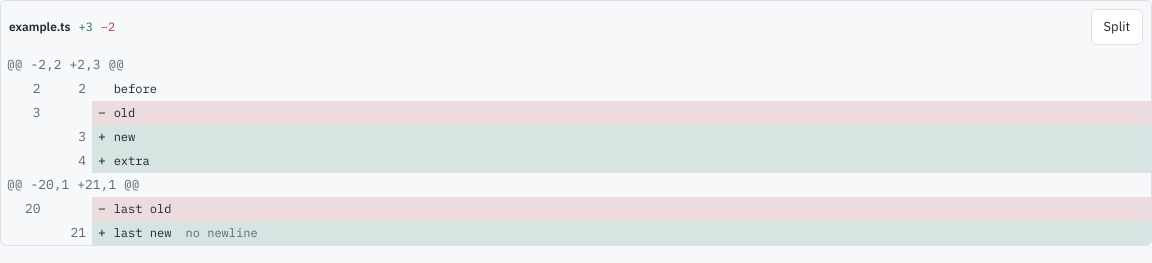
Scenario: diff renderer › pairs replacements in split mode and persists preference
The image size is (1152, 263).
Click the button with aria-label "Diff mode: unified. Switch to split".
click(1117, 27)  # box [1090, 9, 1143, 45]
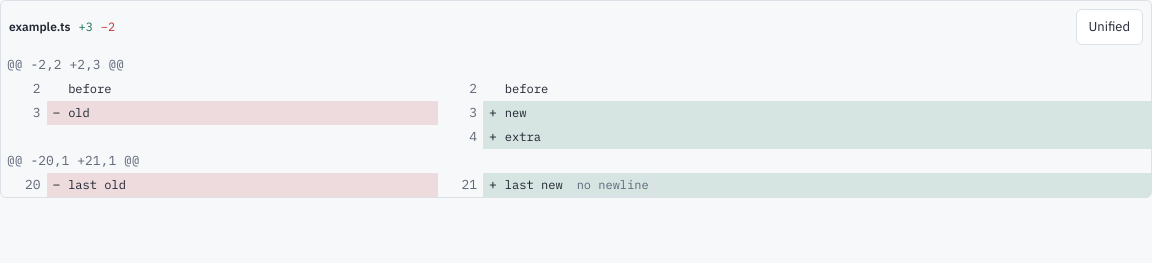
Now the table named "Split diff" is shown, box [1, 53, 1151, 197]
